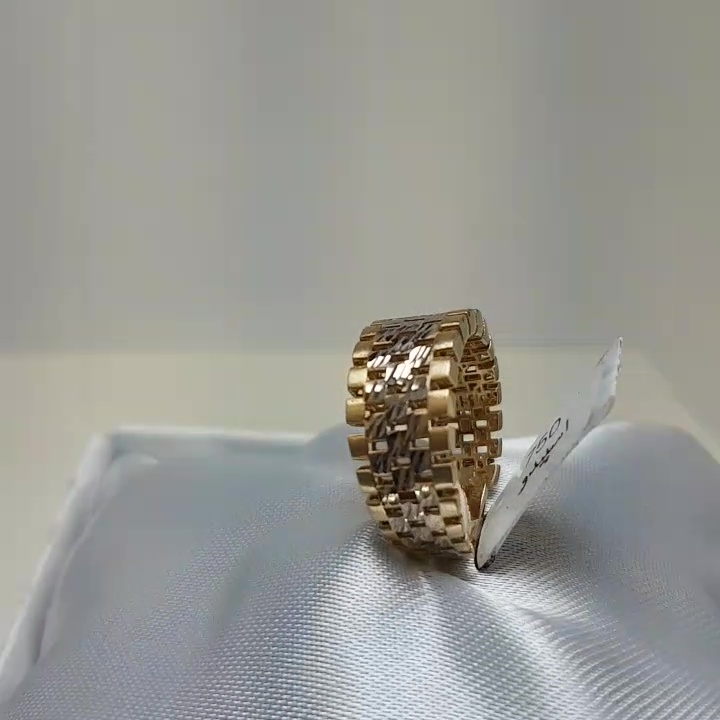Ring 1: (320, 296, 531, 586)
